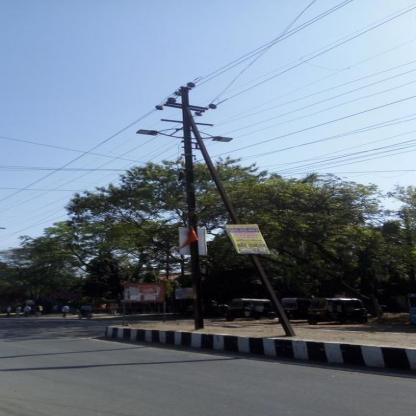Electrical Pole: (140, 75, 255, 326)
